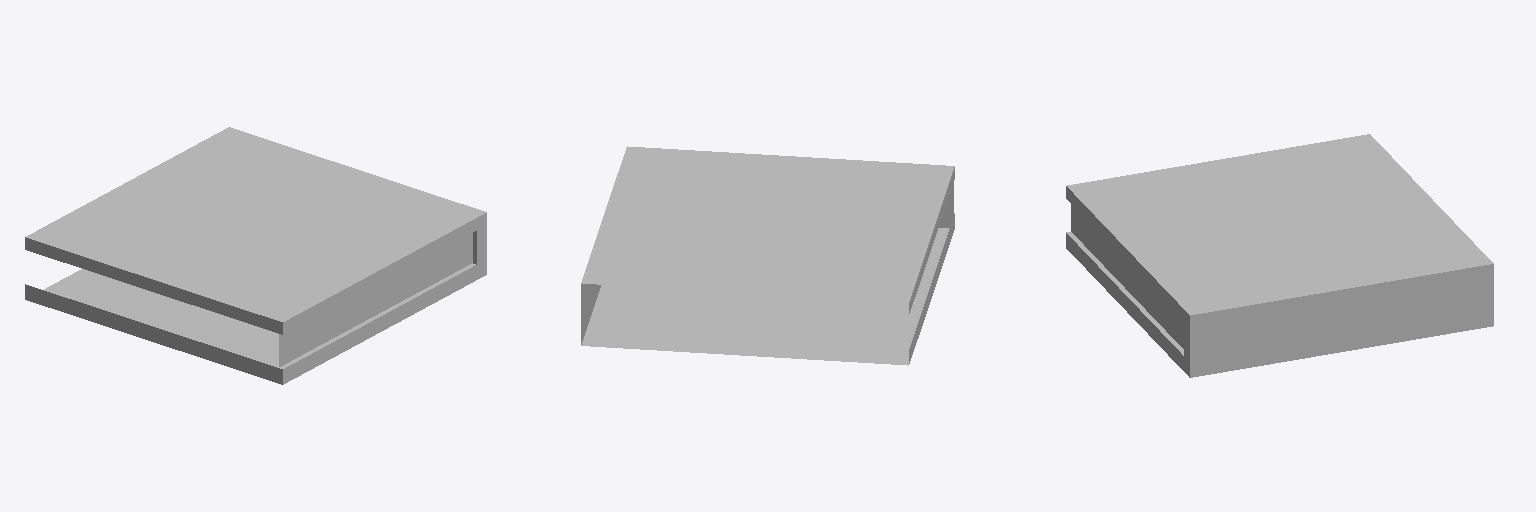
Rendered from readyBook.obj.
The picture shows the model from 3 angles: view 1: azimuth 30°, elevation 25°; view 2: azimuth 150°, elevation 25°; view 3: azimuth 270°, elevation 25°; orthographic projection.
Parts seen in each view (by area): view 1: books_Organizer books_pasted__pCube1 books_polySurface2 polySurf, polySurface31 polySurface34 books_polySurface1; view 2: books_Organizer books_pasted__pCube1 books_polySurface2 polySurf, polySurface31 polySurface34 books_polySurface1; view 3: books_Organizer books_pasted__pCube1 books_polySurface2 polySurf, polySurface31 polySurface34 books_polySurface1.
Part boxes in pixels (x1,y1,x2,y2): books_Organizer books_pasted__pCube1 books_polySurface2 polySurf: (25, 127, 486, 384); polySurface31 polySurface34 books_polySurface1: (44, 233, 475, 368); books_Organizer books_pasted__pCube1 books_polySurface2 polySurf: (581, 146, 954, 363); polySurface31 polySurface34 books_polySurface1: (581, 183, 954, 365); books_Organizer books_pasted__pCube1 books_polySurface2 polySurf: (1066, 134, 1493, 377); polySurface31 polySurface34 books_polySurface1: (1066, 204, 1493, 377).
Size of the model in its own units: 15.39 by 2.47 by 15.32.